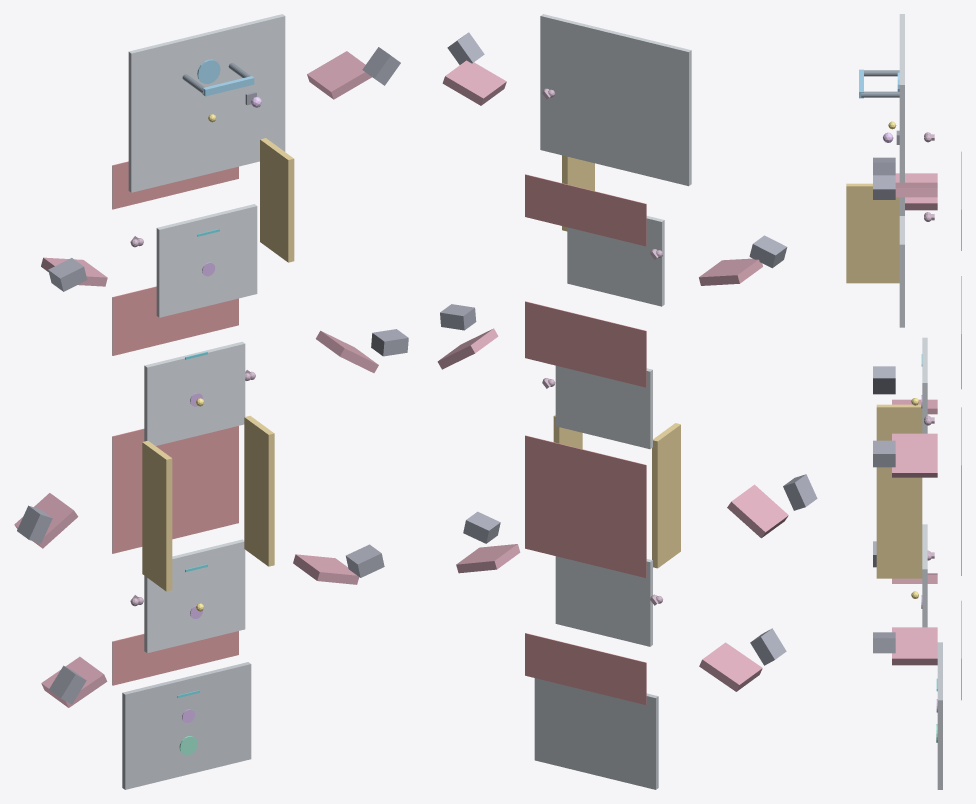
File: level_10_heartbroken.glb
3 views of the same model, side by side, from view 1: azimuth 30°, elevation 25°; view 2: azimuth 150°, elevation 25°; view 3: azimuth 270°, elevation 25° (orthographic). The views are drawn at different scales.
Parts seen in each view (by area): view 1: ACT_ONE_END_PLATFORM_0005, SHATTERED_ENTRY_0001, VOID_DEBUG_NONCOLLIDING_0007, ISOLATED_PLATFORM_C_0004, ISOLATED_PLATFORM_A_0002, ISOLATED_PLATFORM_B_0003, VOID_DEBUG_NONCOLLIDING_0008, WALL_RUN_SURFACE_0011, WALL_RUN_SURFACE_0010, VOID_DEBUG_NONCOLLIDING_0006, WALL_RUN_SURFACE_0012, VOID_DEBUG_NONCOLLIDING_0009 (+11 smaller); view 2: ACT_ONE_END_PLATFORM_0005, VOID_DEBUG_NONCOLLIDING_0007, SHATTERED_ENTRY_0001, VOID_DEBUG_NONCOLLIDING_0008, ISOLATED_PLATFORM_A_0002, ISOLATED_PLATFORM_B_0003, ISOLATED_PLATFORM_C_0004, VOID_DEBUG_NONCOLLIDING_0009, VOID_DEBUG_NONCOLLIDING_0006, WALL_RUN_SURFACE_0011, FALSE_EXIT_FRAGMENT_NONWALKABLE_0025, FALSE_EXIT_FRAGMENT_NONWALKABLE_0021 (+11 smaller); view 3: WALL_RUN_SURFACE_0012, WALL_RUN_SURFACE_0010, FALSE_EXIT_FRAGMENT_NONWALKABLE_0027, FALSE_EXIT_FRAGMENT_NONWALKABLE_0023, WALL_RUN_SURFACE_0011, ACT_ONE_END_PLATFORM_0005, SHATTERED_ENTRY_0001, FALSE_EXIT_FRAGMENT_NONWALKABLE_0029, FALSE_EXIT_FRAGMENT_NONWALKABLE_0031, ISOLATED_PLATFORM_C_0004, FLOATING_MEMORY_SHARD_0026, FLOATING_MEMORY_SHARD_0028 (+9 smaller).
Part boxes in pixels (bbox=[...]): ACT_ONE_END_PLATFORM_0005: bbox=[128, 14, 285, 192]; SHATTERED_ENTRY_0001: bbox=[122, 662, 251, 789]; VOID_DEBUG_NONCOLLIDING_0007: bbox=[112, 426, 238, 553]; ISOLATED_PLATFORM_C_0004: bbox=[156, 204, 257, 317]; ISOLATED_PLATFORM_A_0002: bbox=[144, 539, 245, 653]; ISOLATED_PLATFORM_B_0003: bbox=[144, 341, 245, 445]; VOID_DEBUG_NONCOLLIDING_0008: bbox=[112, 286, 238, 355]; WALL_RUN_SURFACE_0011: bbox=[142, 440, 172, 591]; WALL_RUN_SURFACE_0010: bbox=[244, 415, 274, 566]; VOID_DEBUG_NONCOLLIDING_0006: bbox=[112, 631, 238, 685]; WALL_RUN_SURFACE_0012: bbox=[260, 138, 294, 262]; VOID_DEBUG_NONCOLLIDING_0009: bbox=[112, 161, 238, 209]; ACT_ONE_END_PLATFORM_0005: bbox=[540, 14, 691, 186]; VOID_DEBUG_NONCOLLIDING_0007: bbox=[525, 435, 646, 577]; SHATTERED_ENTRY_0001: bbox=[534, 678, 658, 789]; VOID_DEBUG_NONCOLLIDING_0008: bbox=[525, 301, 646, 387]; ISOLATED_PLATFORM_A_0002: bbox=[555, 556, 652, 646]; ISOLATED_PLATFORM_B_0003: bbox=[555, 365, 652, 449]; ISOLATED_PLATFORM_C_0004: bbox=[567, 216, 664, 306]; VOID_DEBUG_NONCOLLIDING_0009: bbox=[525, 174, 646, 246]; VOID_DEBUG_NONCOLLIDING_0006: bbox=[525, 633, 646, 704]; WALL_RUN_SURFACE_0011: bbox=[652, 423, 680, 568]; FALSE_EXIT_FRAGMENT_NONWALKABLE_0025: bbox=[727, 484, 788, 538]; FALSE_EXIT_FRAGMENT_NONWALKABLE_0021: bbox=[699, 642, 762, 691]; WALL_RUN_SURFACE_0012: bbox=[846, 183, 899, 283]; WALL_RUN_SURFACE_0010: bbox=[876, 467, 922, 578]; FALSE_EXIT_FRAGMENT_NONWALKABLE_0027: bbox=[892, 433, 937, 477]; FALSE_EXIT_FRAGMENT_NONWALKABLE_0023: bbox=[892, 627, 937, 665]; WALL_RUN_SURFACE_0011: bbox=[876, 404, 922, 440]; ACT_ONE_END_PLATFORM_0005: bbox=[899, 14, 904, 215]; SHATTERED_ENTRY_0001: bbox=[937, 642, 942, 789]; FALSE_EXIT_FRAGMENT_NONWALKABLE_0029: bbox=[895, 173, 937, 210]; FALSE_EXIT_FRAGMENT_NONWALKABLE_0031: bbox=[895, 182, 937, 197]; ISOLATED_PLATFORM_C_0004: bbox=[899, 216, 904, 327]; FLOATING_MEMORY_SHARD_0026: bbox=[873, 366, 895, 394]; FLOATING_MEMORY_SHARD_0028: bbox=[873, 440, 895, 467].
Bounding box in the file's own units: 54.28 × 103 × 15.16.
